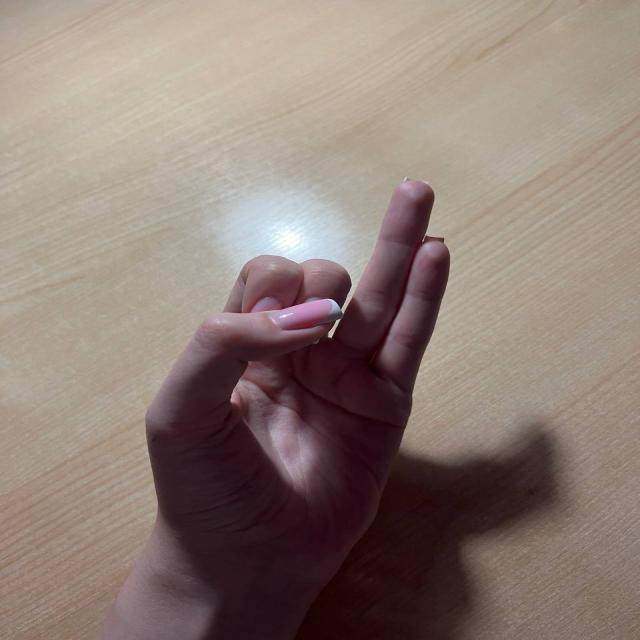i: (138, 173, 464, 547)
